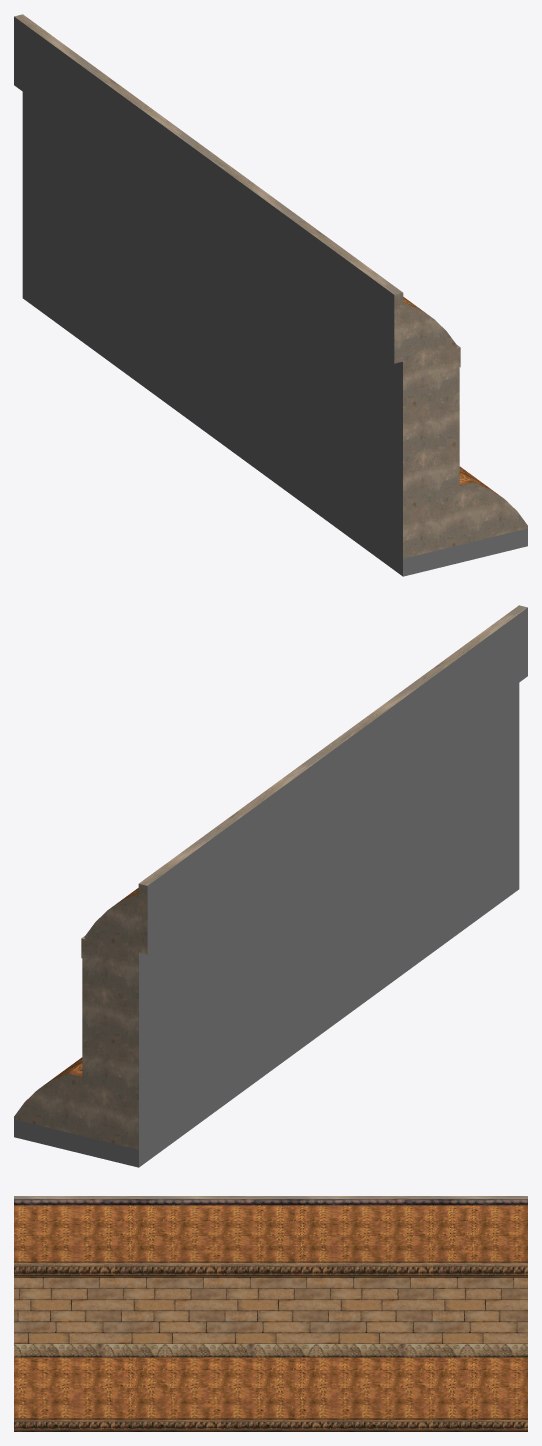
Rendered from Building_Top.fbx.
The picture shows the model from 3 angles, top to bottom: view 1: azimuth 30°, elevation 25°; view 2: azimuth 150°, elevation 25°; view 3: azimuth 270°, elevation 25°; orthographic projection. The views are drawn at different scales.
Parts seen in each view (by area): view 1: Box073; view 2: Box073; view 3: Box073.
Part boxes in pixels (left/top/right/bottom): Box073: left=14, top=14, right=527, bottom=576; Box073: left=14, top=605, right=527, bottom=1167; Box073: left=14, top=1196, right=527, bottom=1431.
Bounding box in the file's own units: 708 × 1439 × 3495.
